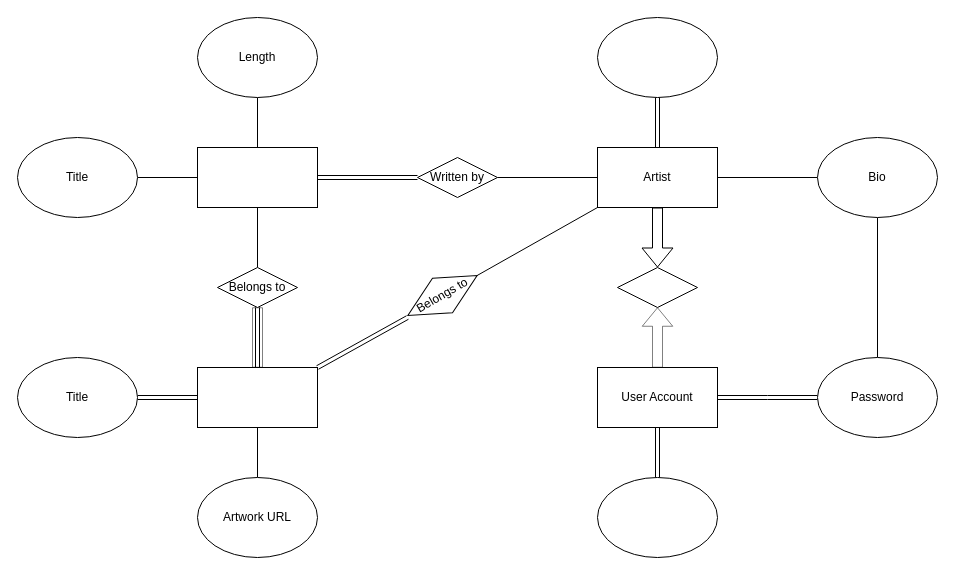
Image size: 955x575. Some labels were removed from this diagram. The centre of each missing label's shape, as x and y in pixels:
"Album" belongs at point (257, 397).
"Has a" belongs at point (657, 287).
"Name" belongs at point (657, 57).
"Song" belongs at point (257, 177).
"User" belongs at point (657, 517).
